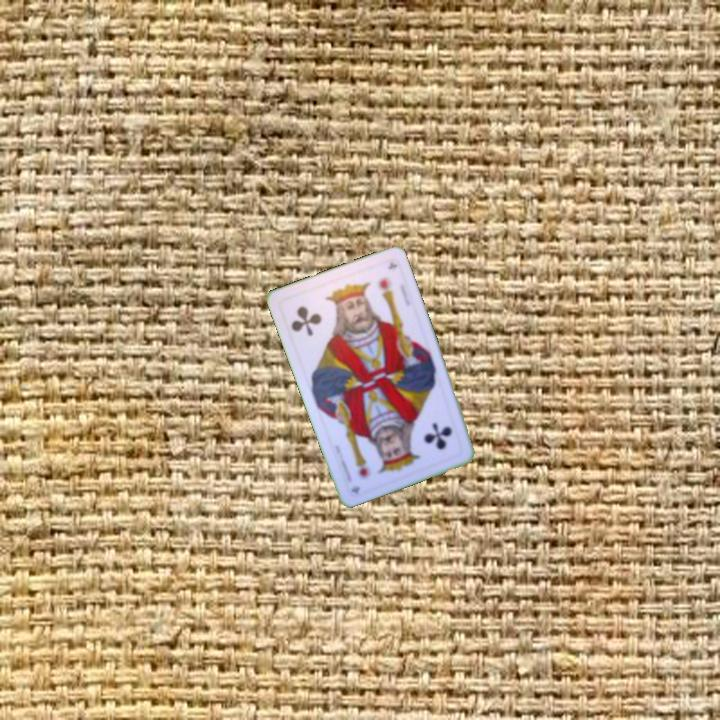c_k.png: (276, 277, 358, 353), (387, 400, 468, 476)
